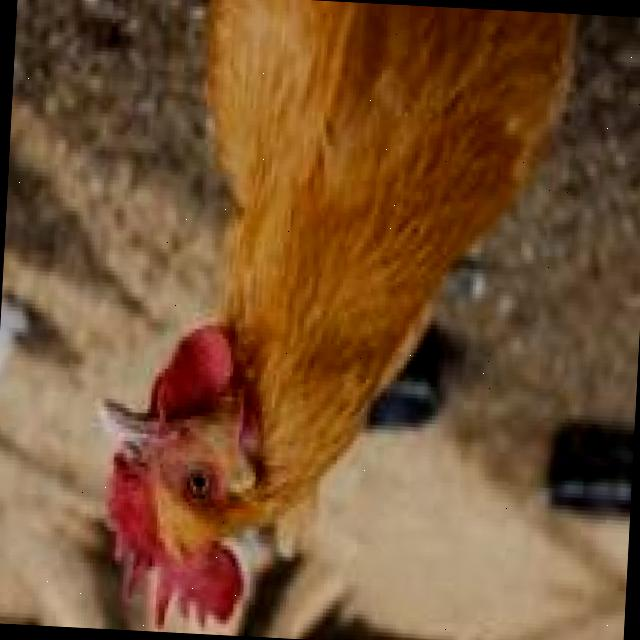Healthy: (79, 0, 576, 640)
